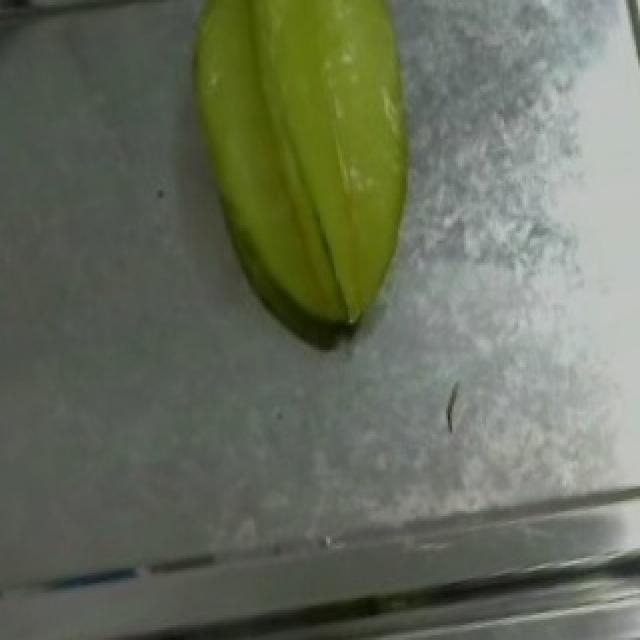fruit: (156, 0, 488, 330)
